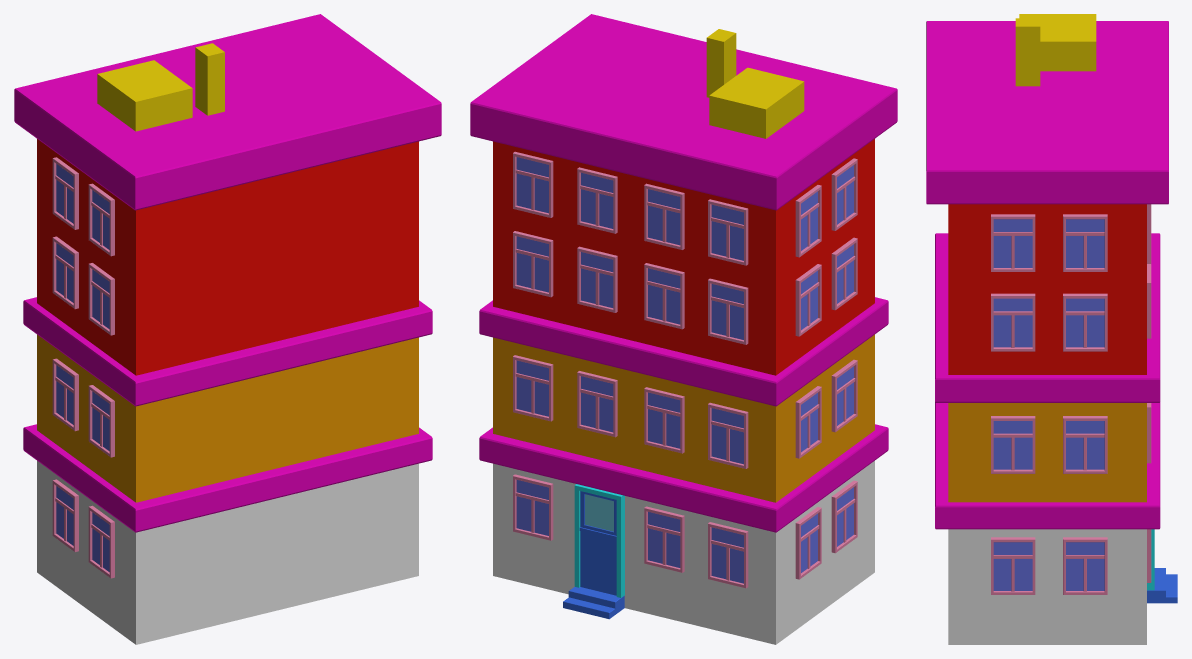
Rendered from house01.fbx.
3 views of the same model, side by side, from view 1: azimuth 30°, elevation 25°; view 2: azimuth 150°, elevation 25°; view 3: azimuth 270°, elevation 25° (orthographic).
Visible parts, largest first — view 1: Cube; view 2: Cube; view 3: Cube.
Part boxes in pixels (left/top/right/bottom): Cube: left=14, top=14, right=441, bottom=644; Cube: left=470, top=14, right=897, bottom=644; Cube: left=926, top=14, right=1177, bottom=644.
Bounding box in the file's own units: 883 × 1483 × 626.
